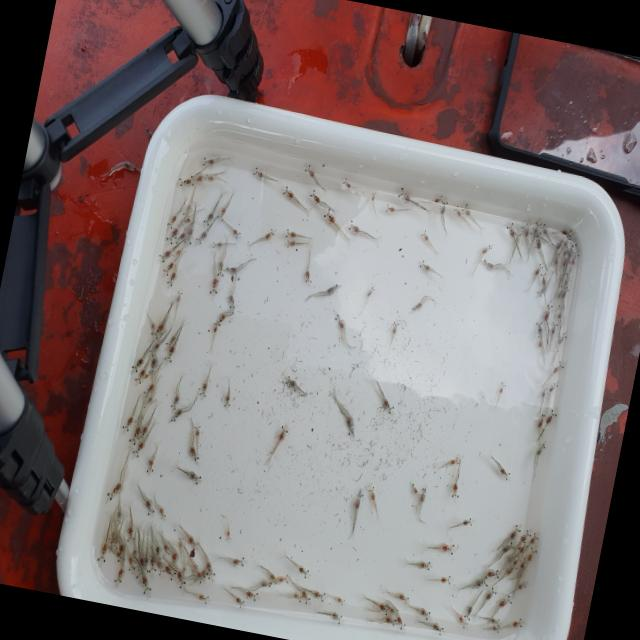babyshrimp: (131, 434, 150, 459), (105, 478, 124, 501), (190, 171, 212, 190), (149, 331, 166, 355), (481, 583, 499, 605), (497, 462, 516, 482), (136, 552, 150, 579), (543, 405, 559, 428), (439, 539, 457, 559), (184, 468, 202, 488), (503, 218, 519, 240), (333, 306, 346, 333), (323, 282, 342, 300), (352, 484, 365, 510), (128, 424, 143, 446), (323, 206, 338, 228), (397, 183, 412, 205), (140, 571, 153, 596), (550, 356, 566, 376), (417, 252, 432, 273), (174, 572, 187, 596), (148, 352, 160, 378), (162, 563, 178, 582), (457, 200, 476, 216), (525, 543, 540, 563), (518, 218, 533, 238), (111, 563, 124, 586), (131, 353, 145, 374), (303, 162, 317, 183), (495, 594, 513, 610), (507, 524, 522, 543), (195, 568, 210, 587), (252, 163, 266, 183), (97, 541, 109, 564), (135, 364, 148, 385), (163, 342, 176, 363), (383, 396, 396, 417), (328, 609, 344, 626), (244, 586, 261, 602), (408, 299, 425, 315), (526, 529, 541, 547), (438, 570, 453, 588), (281, 183, 296, 201), (456, 612, 470, 631), (188, 528, 200, 550), (122, 413, 135, 433), (348, 216, 361, 236), (555, 329, 568, 349), (274, 570, 290, 586), (418, 605, 433, 622), (396, 591, 411, 608), (310, 587, 327, 602), (195, 229, 210, 246), (570, 248, 581, 271), (379, 599, 393, 617), (144, 389, 158, 407), (451, 475, 461, 500), (476, 572, 489, 591), (298, 587, 311, 606), (145, 495, 156, 517), (428, 621, 444, 636), (196, 589, 211, 605), (137, 423, 149, 443), (143, 381, 155, 401), (419, 224, 431, 244), (568, 237, 580, 257), (170, 406, 183, 424), (309, 186, 322, 204), (166, 268, 177, 289), (438, 197, 449, 218), (543, 300, 554, 321), (205, 557, 215, 580), (160, 246, 172, 265), (183, 227, 195, 246), (278, 423, 290, 442), (365, 482, 377, 501), (231, 555, 245, 571), (346, 413, 354, 441), (447, 453, 461, 469), (416, 559, 433, 572), (166, 228, 179, 245), (202, 209, 215, 226), (126, 522, 136, 544), (285, 371, 296, 391), (535, 411, 546, 431), (463, 603, 475, 621), (216, 255, 225, 279), (296, 564, 311, 578), (285, 225, 299, 240), (532, 228, 542, 249), (411, 477, 421, 498), (147, 554, 158, 573), (519, 528, 532, 544), (262, 226, 275, 242), (385, 200, 398, 216), (150, 319, 162, 336), (451, 203, 463, 220), (497, 378, 509, 395), (210, 274, 219, 296), (163, 259, 174, 277), (167, 212, 178, 230), (419, 484, 428, 506), (502, 541, 516, 555), (510, 615, 523, 630), (506, 560, 519, 575), (535, 285, 548, 300), (235, 593, 247, 609), (170, 395, 182, 411), (535, 441, 547, 457), (126, 553, 136, 572), (217, 204, 227, 223), (485, 566, 498, 580), (459, 515, 473, 528), (517, 538, 529, 553), (217, 308, 226, 328), (482, 241, 494, 256), (533, 217, 545, 232), (560, 283, 570, 301), (365, 283, 376, 299), (391, 318, 400, 337), (550, 317, 559, 336), (198, 381, 208, 398), (384, 614, 397, 627), (536, 319, 544, 340), (156, 542, 165, 560), (540, 382, 549, 400), (202, 155, 215, 167), (173, 231, 185, 244), (483, 260, 496, 272), (563, 226, 575, 239), (547, 379, 559, 392), (194, 422, 202, 441), (398, 615, 407, 631), (334, 595, 346, 607), (166, 336, 175, 352), (191, 446, 200, 462), (210, 239, 223, 250), (341, 176, 351, 190), (145, 459, 154, 474), (535, 261, 544, 276), (224, 265, 237, 275), (159, 506, 168, 520), (141, 369, 150, 383), (212, 320, 221, 334), (233, 227, 242, 241), (539, 270, 548, 284), (491, 616, 502, 627), (489, 624, 501, 634), (516, 581, 528, 591), (512, 553, 522, 565), (292, 593, 304, 603), (223, 393, 231, 408), (286, 239, 298, 249), (434, 194, 444, 206), (176, 289, 183, 306), (258, 581, 274, 588), (305, 267, 312, 283), (225, 530, 233, 542), (230, 293, 235, 310), (184, 206, 191, 218), (370, 191, 377, 202), (542, 225, 549, 236)
